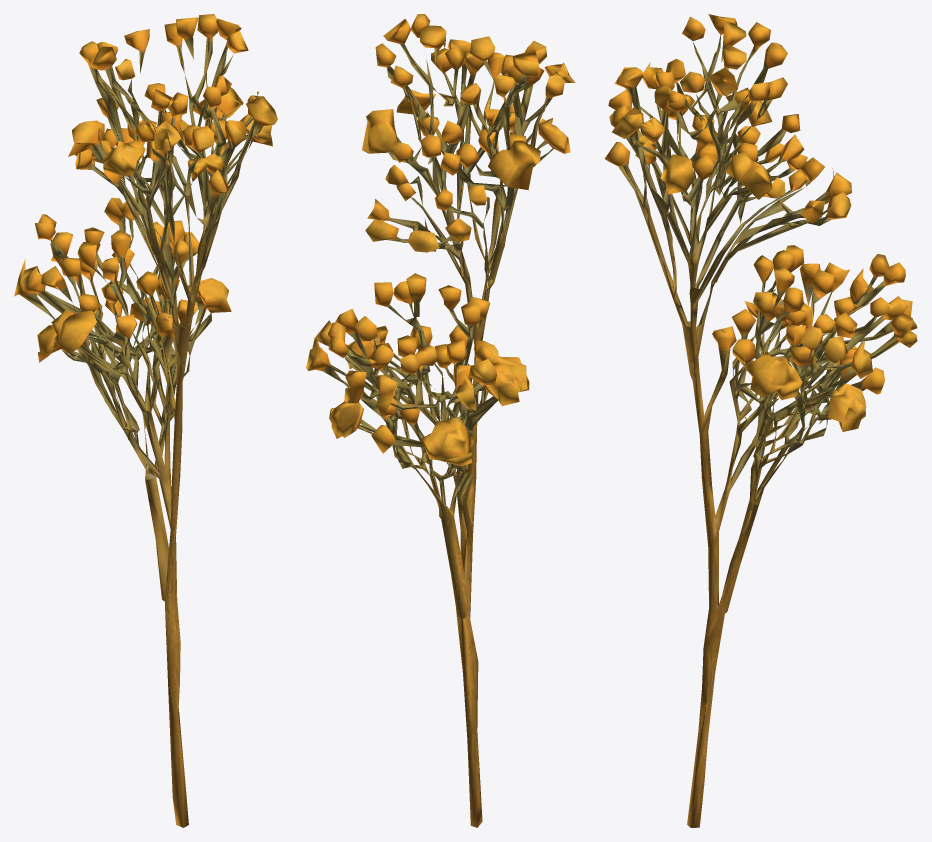
File: YellowFlower.glb
3 renders of one model, left to right at view 1: azimuth 30°, elevation 25°; view 2: azimuth 150°, elevation 25°; view 3: azimuth 270°, elevation 25°, orthographic.
Visible parts, largest first — view 1: tripo_node_19216e35-cf6a-4262-a08b-78f0214b0cca; view 2: tripo_node_19216e35-cf6a-4262-a08b-78f0214b0cca; view 3: tripo_node_19216e35-cf6a-4262-a08b-78f0214b0cca.
Boxes of the visible parts, x1,y1,x2,y2 form: tripo_node_19216e35-cf6a-4262-a08b-78f0214b0cca: [14, 14, 277, 827]; tripo_node_19216e35-cf6a-4262-a08b-78f0214b0cca: [306, 14, 575, 827]; tripo_node_19216e35-cf6a-4262-a08b-78f0214b0cca: [604, 14, 917, 827].
Size of the model in its own units: 0.2328 by 0.9994 by 0.3582.
1 material, 1 textured.
